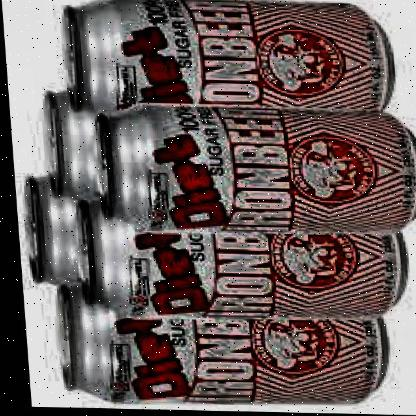Can: (63, 194, 412, 330), (82, 102, 416, 238), (46, 278, 388, 410), (56, 0, 401, 120)
